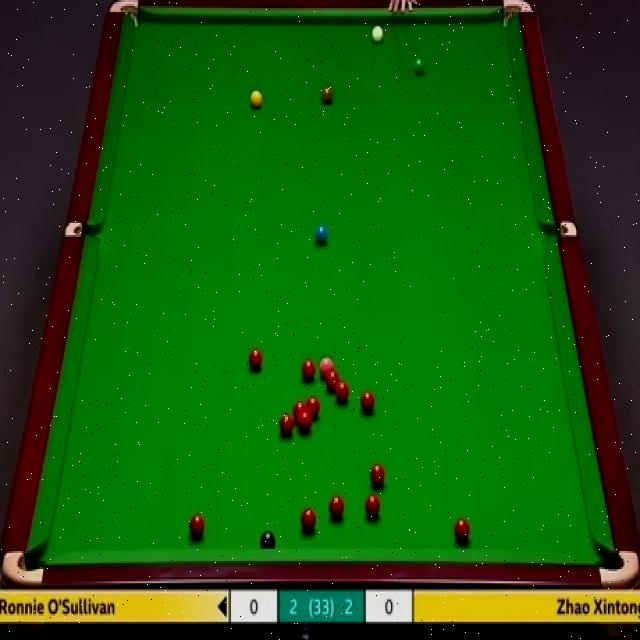black-ball: (262, 530, 280, 548)
blue-ball: (314, 226, 328, 243)
brown-ball: (321, 87, 334, 109)
green-ball: (414, 57, 424, 72)
pink-ball: (320, 356, 334, 376)
red-ball: (452, 516, 472, 540), (370, 462, 386, 490), (305, 396, 322, 422), (278, 413, 295, 438), (300, 508, 317, 533), (329, 492, 344, 520), (188, 514, 205, 538), (366, 495, 381, 518), (249, 348, 262, 372), (298, 412, 312, 433), (335, 383, 348, 405), (325, 370, 339, 390), (360, 392, 375, 410), (301, 359, 314, 379), (293, 402, 306, 421)
white-ball: (371, 26, 384, 44)
yellow-ball: (250, 89, 263, 110)
